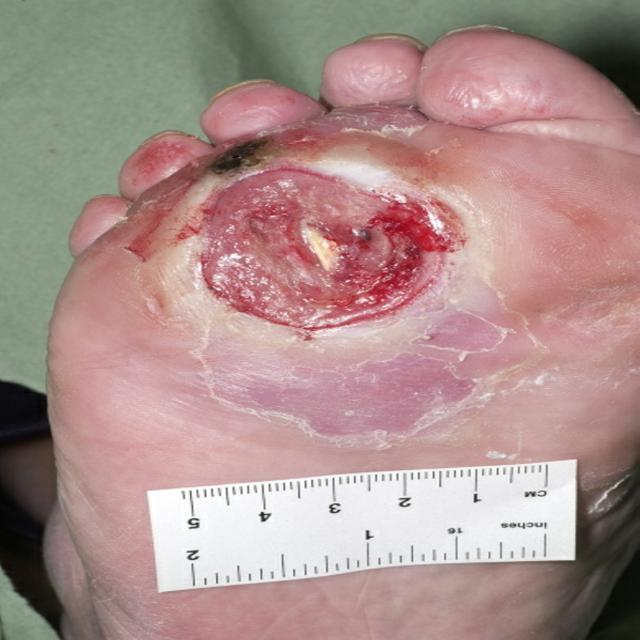wound: (196, 165, 467, 334)
